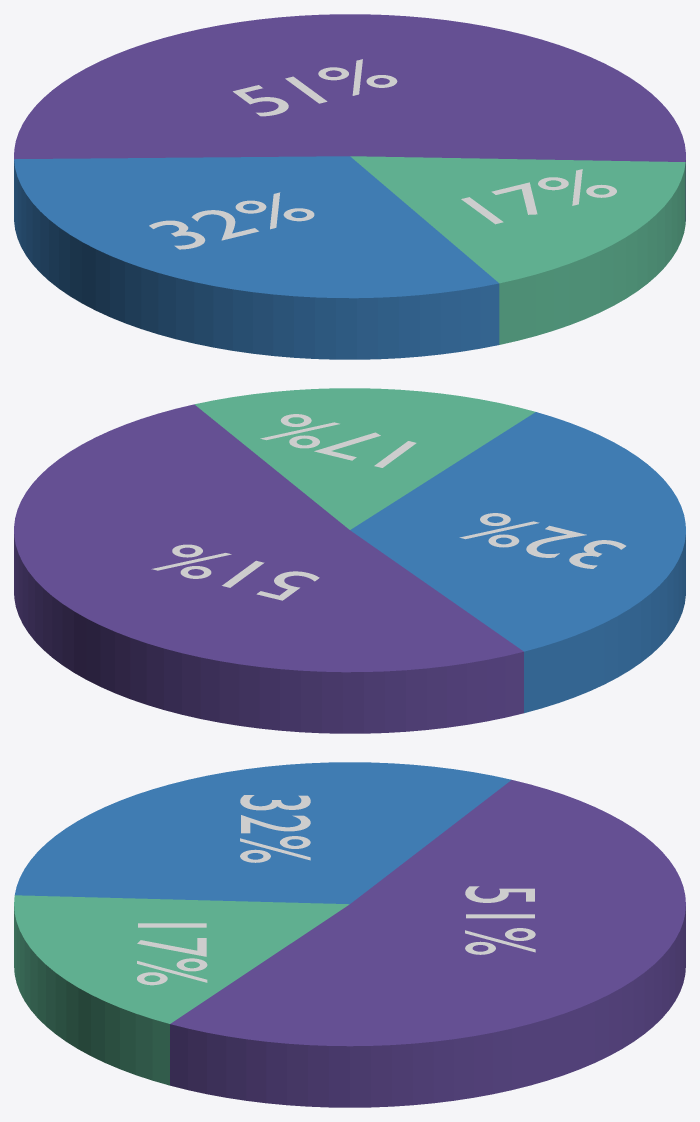
File: GraphV2.gltf
3 renders of one model, top to bottom at view 1: azimuth 30°, elevation 25°; view 2: azimuth 150°, elevation 25°; view 3: azimuth 270°, elevation 25°, orthographic.
Parts seen in each view (by area): view 1: Cylinder, 32 BLUE, 51 VIOLET, 17 GREEN; view 2: Cylinder, 32 BLUE, 51 VIOLET, 17 GREEN; view 3: Cylinder, 32 BLUE, 51 VIOLET, 17 GREEN.
Boxes of the visible parts, x1,y1,x2,y2 form: Cylinder: (14, 14, 685, 359); 32 BLUE: (149, 192, 314, 249); 51 VIOLET: (233, 59, 397, 116); 17 GREEN: (461, 169, 616, 224); Cylinder: (14, 388, 685, 733); 32 BLUE: (459, 513, 625, 568); 51 VIOLET: (151, 544, 319, 600); 17 GREEN: (260, 414, 416, 467); Cylinder: (14, 762, 685, 1107); 32 BLUE: (240, 795, 310, 862); 51 VIOLET: (465, 886, 535, 954); 17 GREEN: (137, 923, 207, 985).
Bounding box in the file's own units: 2 × 0.213 × 2.
